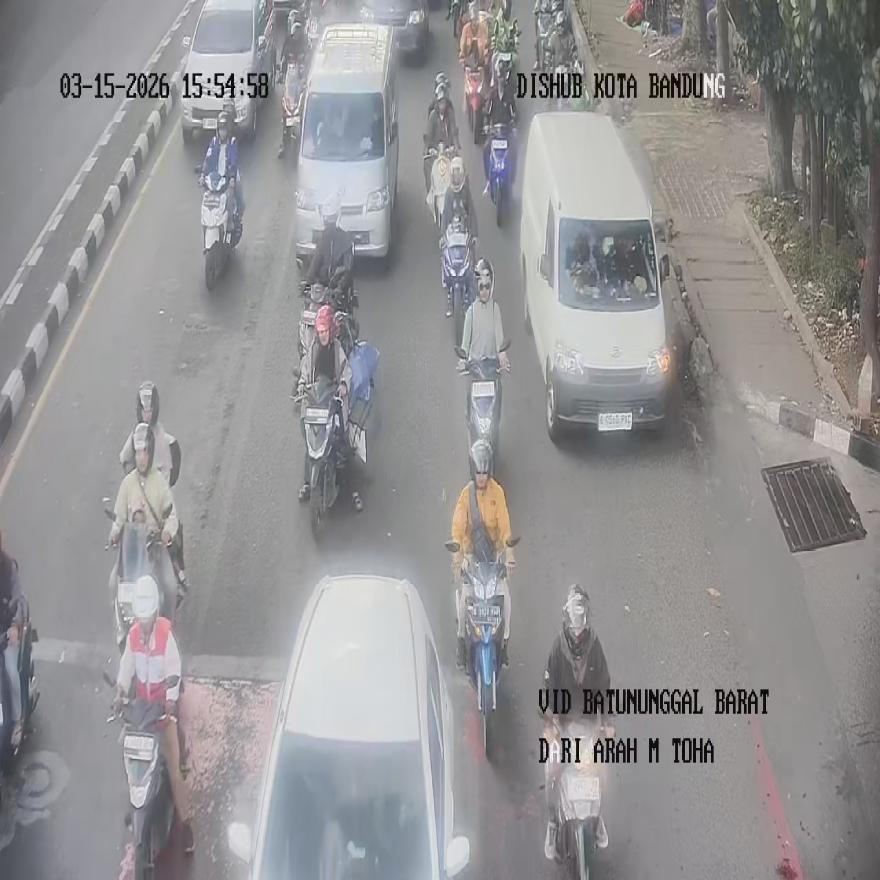Mobil: (226, 573, 470, 878), (519, 113, 671, 436), (292, 22, 398, 263), (180, 0, 274, 142)
Motor: (107, 673, 188, 880), (447, 534, 518, 757), (104, 499, 177, 650), (545, 728, 605, 880), (301, 380, 358, 540), (0, 600, 38, 804), (456, 343, 509, 478), (198, 169, 241, 290), (441, 226, 475, 347), (482, 124, 511, 228), (278, 56, 304, 156), (533, 4, 560, 72), (464, 62, 485, 143)
